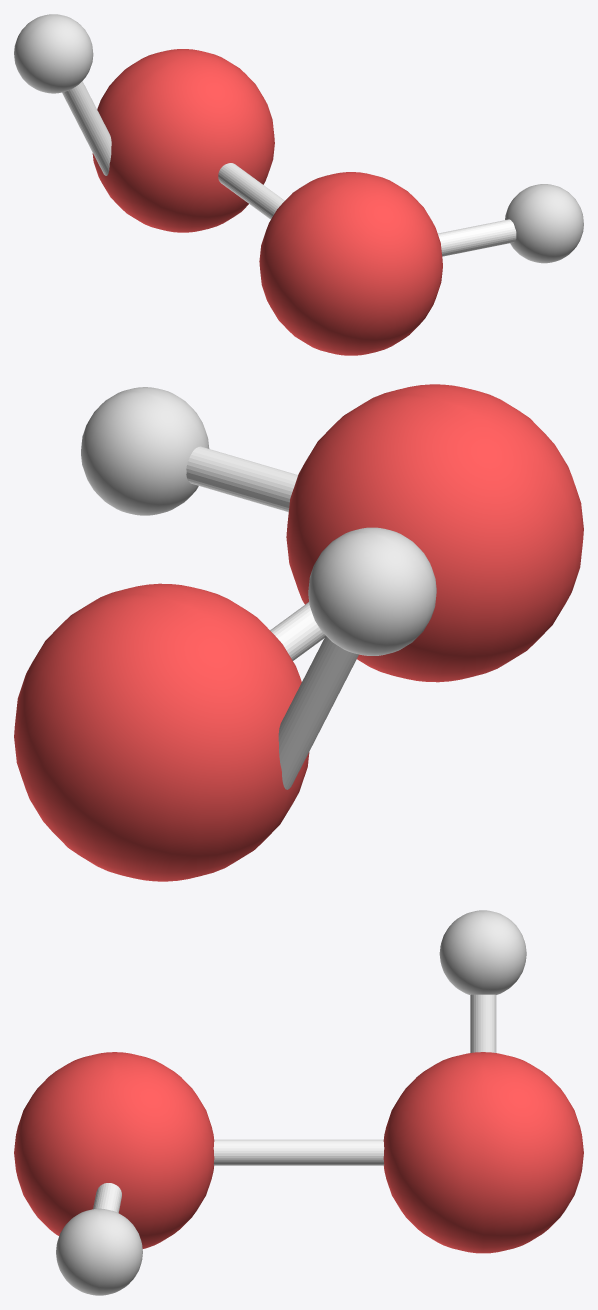
3 renders of one model, top to bottom at view 1: azimuth 30°, elevation 25°; view 2: azimuth 150°, elevation 25°; view 3: azimuth 270°, elevation 25°, orthographic. The views are drawn at different scales.
Visible parts, largest first — view 1: 실린더.002; view 2: 실린더.002; view 3: 실린더.002.
Part boxes in pixels (x1,y1,x2,y2): 실린더.002: (14, 14, 583, 355); 실린더.002: (14, 384, 583, 881); 실린더.002: (14, 910, 583, 1295).
Size of the model in its own units: 475 by 281 by 557.
